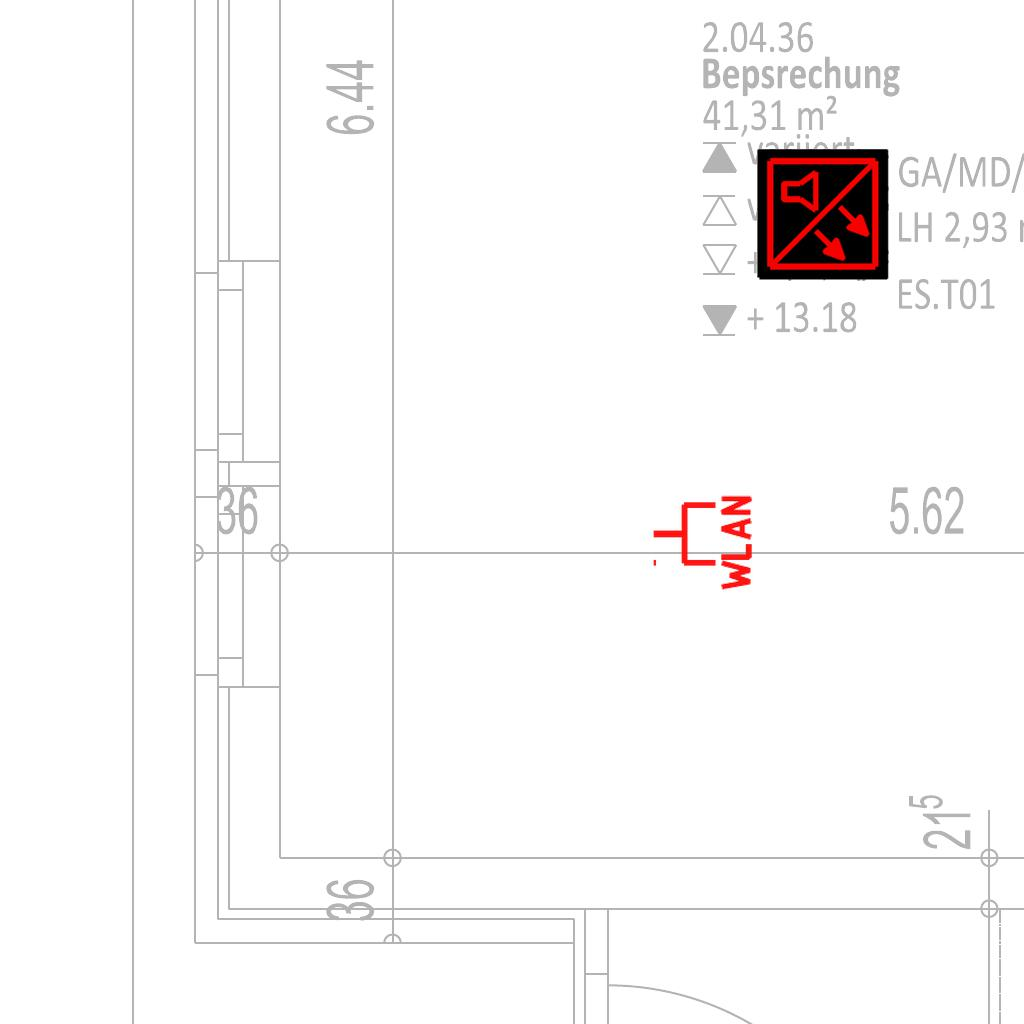OKW_Multisensormelder_(Kombination_optischer_Rauch-Kahlenmonoxid_Waerme-Melder): (757, 149, 889, 281)
WLAN: (649, 491, 754, 595)
